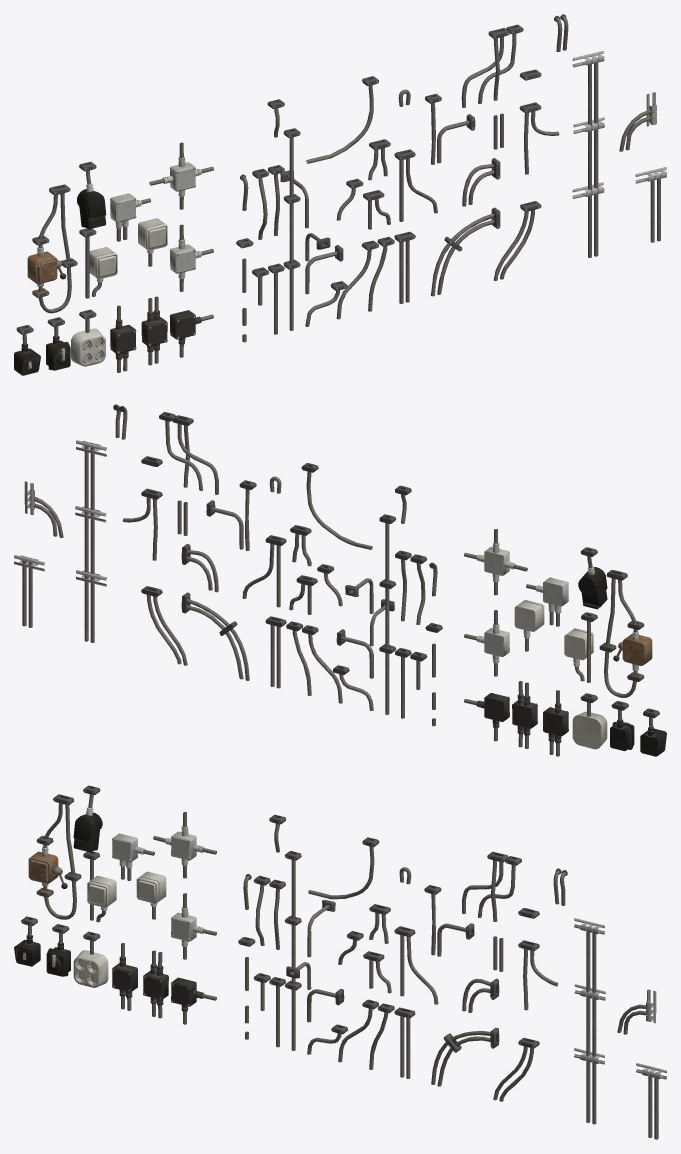
The model's file is modular_electric_cables.glb.
3 views of the same model, one above another, from view 1: azimuth 30°, elevation 25°; view 2: azimuth 150°, elevation 25°; view 3: azimuth 330°, elevation 25° (orthographic).
Parts seen in each view (by area): view 1: cable_double_alt_long, cable_switch, cable_3way_junction, cable_plug_4x, cable_lightswitch_double, cable_straight_long, cable_double_turn_long, cable_plug_covered_2, cable_box_double, cable_box_4way, cable_box_3way, cable_box_double_to_single (+14 smaller); view 2: cable_double_alt_long, cable_switch, cable_3way_junction, cable_plug_4x, cable_straight_long, cable_lightswitch_double, cable_double_turn_long, cable_plug_covered_2, cable_box_4way, cable_box_double, cable_box_double_to_single_2, cable_box_3way (+14 smaller); view 3: cable_double_alt_long, cable_switch, cable_plug_4x, cable_3way_junction, cable_straight_long, cable_plug_covered_2, cable_lightswitch_double, cable_double_turn_long, cable_box_4way, cable_box_double, cable_box_3way, cable_box_double_to_single (+14 smaller).
Part boxes in pixels (box(x1,y1,x2,y2)): cable_double_alt_long: box(572, 51, 604, 257); cable_switch: box(27, 184, 77, 313); cable_3way_junction: box(461, 24, 523, 107); cable_plug_4x: box(71, 309, 105, 366); cable_lightswitch_double: box(79, 228, 117, 298); cable_straight_long: box(283, 128, 300, 330); cable_double_turn_long: box(431, 207, 500, 296); cable_plug_covered_2: box(77, 161, 106, 228); cable_box_double: box(141, 296, 167, 365); cable_box_4way: box(149, 142, 213, 209); cable_box_3way: box(169, 224, 213, 291); cable_box_double_to_single: box(110, 305, 136, 372); cable_double_alt_long: box(75, 440, 106, 642); cable_switch: box(599, 570, 652, 697); cable_3way_junction: box(159, 412, 218, 494); cable_plug_4x: box(572, 693, 607, 749); cable_straight_long: box(379, 514, 396, 714); cable_lightswitch_double: box(564, 612, 597, 682); cable_double_turn_long: box(181, 592, 249, 680); cable_plug_covered_2: box(578, 547, 607, 609); cable_box_4way: box(464, 529, 527, 595); cable_box_double: box(512, 681, 537, 748); cable_box_double_to_single_2: box(526, 577, 568, 626); cable_box_3way: box(464, 610, 509, 676); cable_double_alt_long: box(574, 918, 605, 1124); cable_switch: box(28, 794, 81, 919); cable_plug_4x: box(73, 931, 108, 987); cable_3way_junction: box(462, 851, 521, 921); cable_straight_long: box(284, 851, 301, 1050); cable_plug_covered_2: box(73, 785, 102, 851); cable_lightswitch_double: box(83, 851, 116, 922); cable_double_turn_long: box(431, 1027, 499, 1086); cable_box_4way: box(153, 812, 216, 878); cable_box_double: box(143, 950, 168, 1018); cable_box_3way: box(171, 893, 216, 959); cable_box_double_to_single: box(112, 943, 137, 1010).
Size of the model in its own units: 2.08 by 0.7573 by 0.2145.
2 materials, 2 textured.
